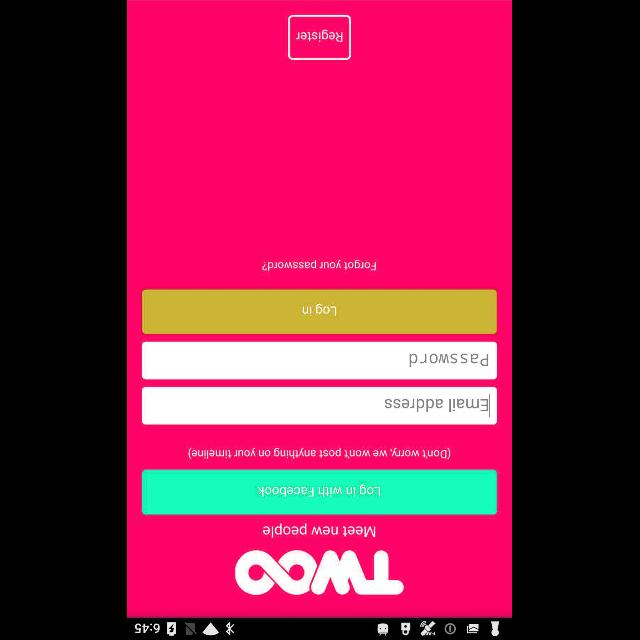image: (236, 550, 404, 594)
input: (142, 341, 498, 379), (142, 386, 498, 424)
text: (188, 447, 452, 459), (264, 522, 376, 538), (386, 398, 488, 412), (263, 259, 377, 271), (409, 354, 488, 366)
textbutton: (142, 288, 498, 334), (142, 470, 498, 514), (288, 15, 352, 60)
uppertaskbar: (128, 617, 512, 639)
